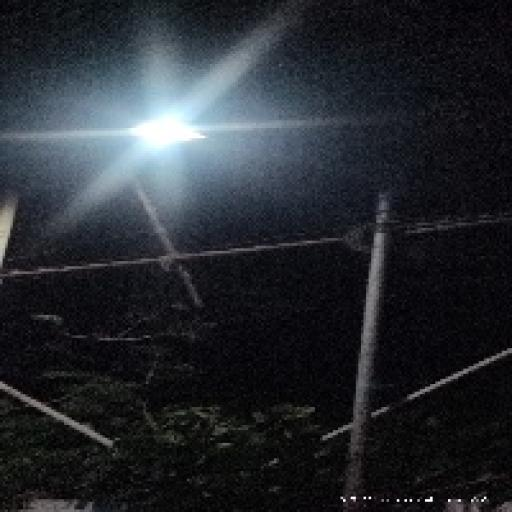Working: (124, 112, 210, 156)
